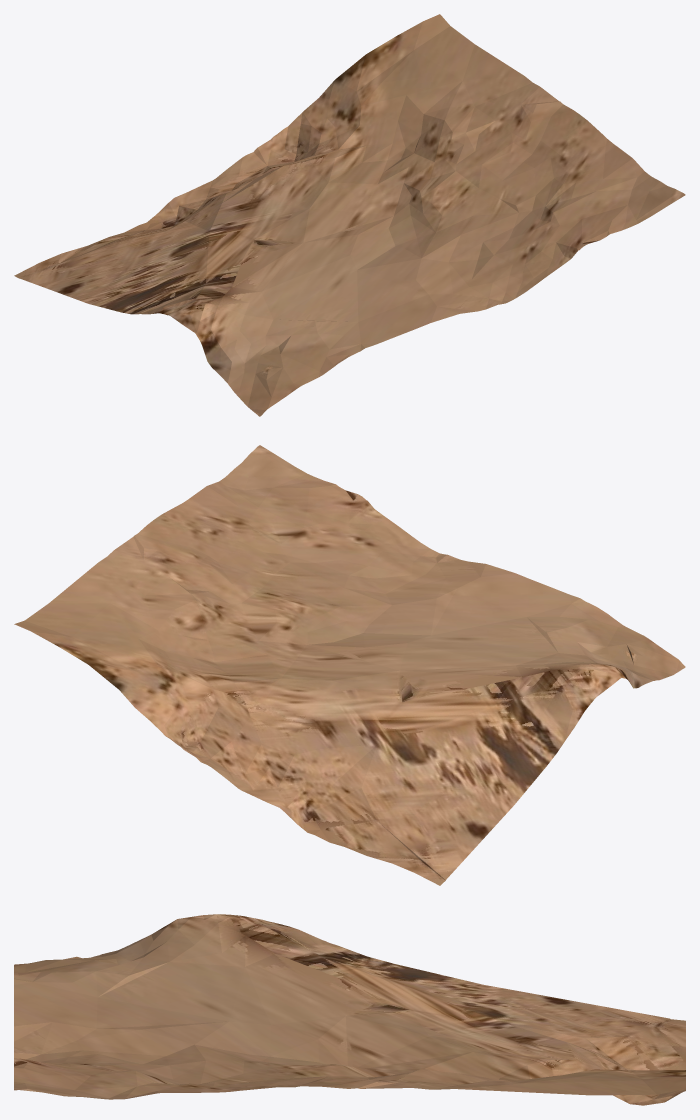
3 views of the same model, one above another, from view 1: azimuth 30°, elevation 25°; view 2: azimuth 150°, elevation 25°; view 3: azimuth 270°, elevation 25° (orthographic). The views are drawn at different scales.
Size of the model in its own units: 1.04 by 0.3743 by 1.04.
3 materials, 3 textured.
